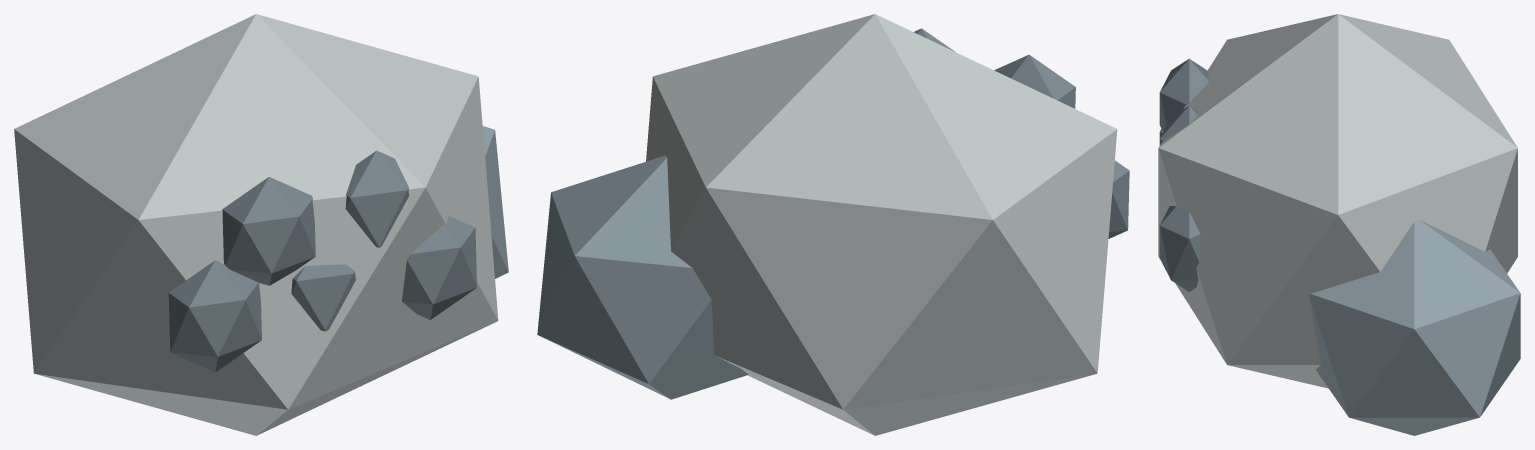
The model's file is ore_coal.fbx.
3 views of the same model, side by side, from view 1: azimuth 30°, elevation 25°; view 2: azimuth 150°, elevation 25°; view 3: azimuth 270°, elevation 25° (orthographic). The views are drawn at different scales.
Visible parts, largest first — view 1: ore_coal_mesh; view 2: ore_coal_mesh; view 3: ore_coal_mesh.
Part boxes in pixels (box(x1,y1,x2,y2)): ore_coal_mesh: box(14, 14, 508, 435); ore_coal_mesh: box(537, 14, 1129, 435); ore_coal_mesh: box(1158, 14, 1520, 435).
Size of the model in its own units: 1.5 by 1.2 by 1.05.
